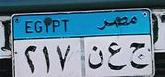1: (41, 44, 53, 74)
2: (23, 43, 39, 75)
7: (56, 43, 71, 72)
ain: (106, 40, 126, 73)
jeem: (127, 42, 150, 72)
noon: (87, 44, 104, 71)
